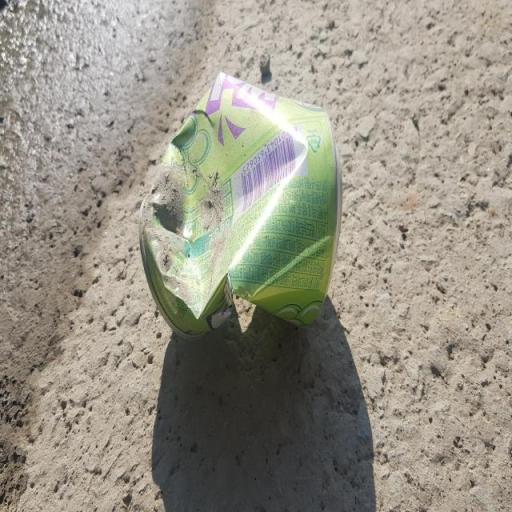metal: (134, 62, 350, 358)
